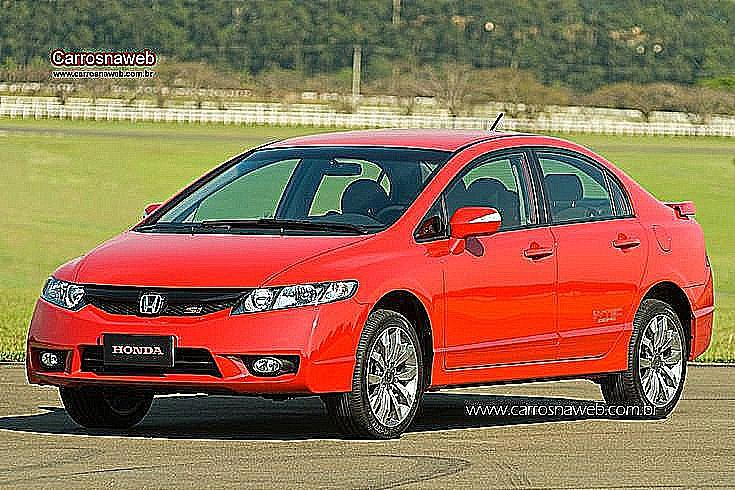Car hood: (44, 231, 378, 290)
Fender - -F-L-: (280, 225, 450, 393)
Fender - -R-L-: (616, 174, 712, 373)
Front bumper: (20, 296, 372, 400)
Headlight - -L-: (229, 279, 359, 316)
Headlight - -R-: (40, 274, 90, 312)
Passenger-s door - -F-L-: (420, 126, 566, 401)
Passenger-s door - -R-L-: (516, 121, 650, 396)
Rear bumper: (686, 307, 719, 366)
Side bumper - -L-: (424, 336, 634, 402)
Side mirror - -L-: (438, 204, 503, 253)
